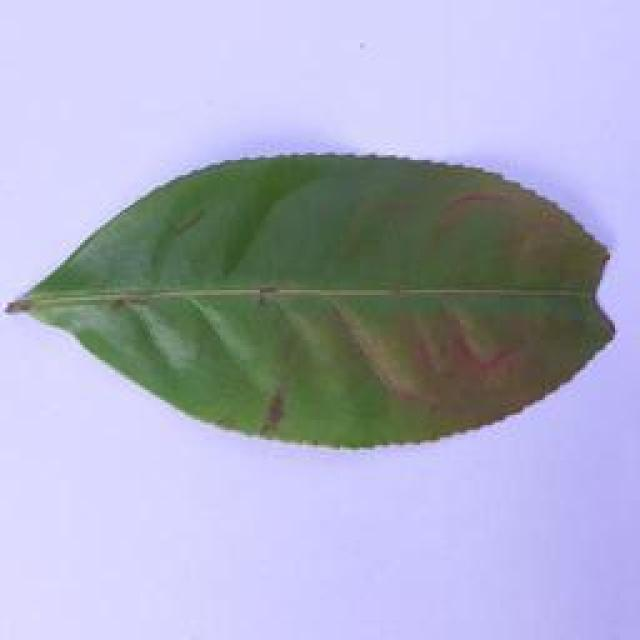Red Leaf Spot: (7, 142, 640, 455)
